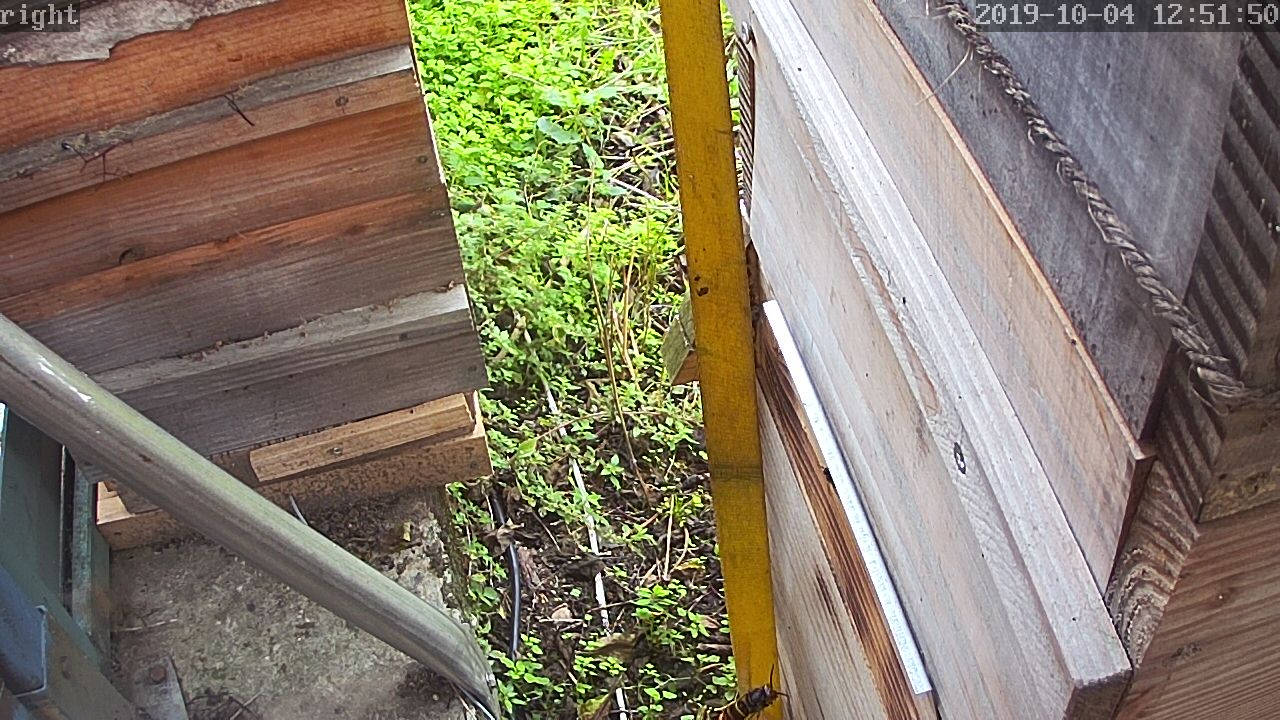bee: (818, 458, 843, 489)
hornet: (719, 671, 787, 720)
